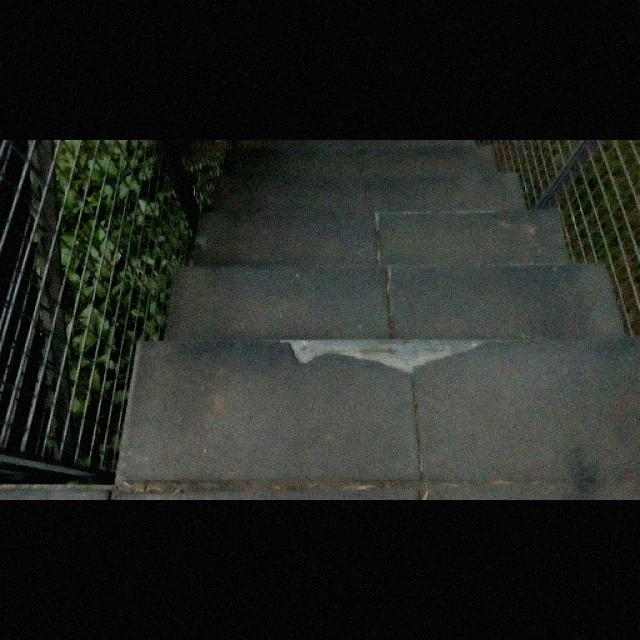stair: (217, 140, 592, 473)
